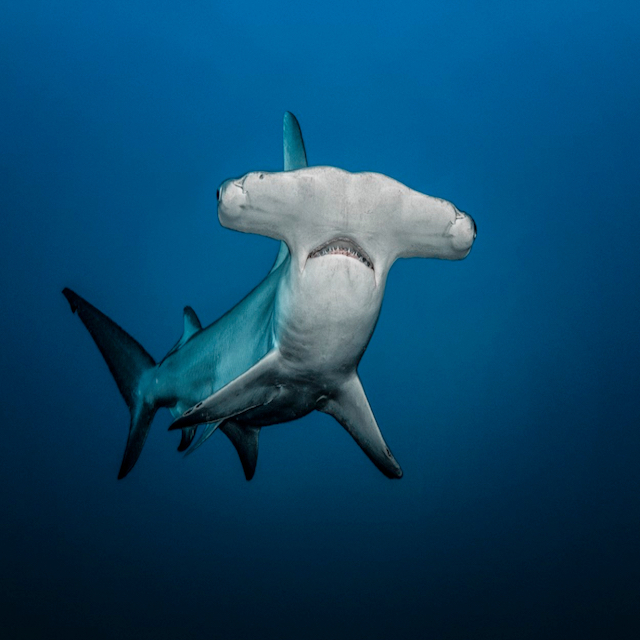hammerhead: (210, 132, 493, 296)
